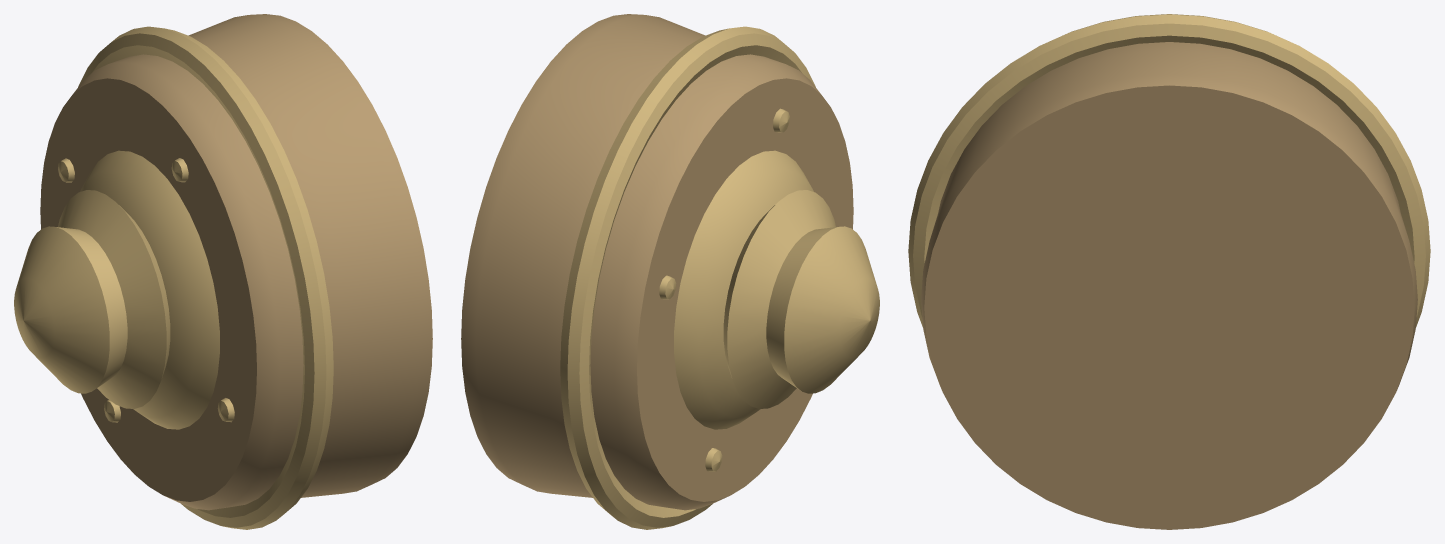
File: cryptex_cap_l.glb
The picture shows the model from 3 angles, left to right: view 1: azimuth 30°, elevation 25°; view 2: azimuth 150°, elevation 25°; view 3: azimuth 270°, elevation 25°; orthographic projection.
Parts seen in each view (by area): view 1: cryptex_cap_l; view 2: cryptex_cap_l; view 3: cryptex_cap_l.
Part boxes in pixels (left/top/right/bottom): cryptex_cap_l: left=14, top=14, right=432, bottom=529; cryptex_cap_l: left=461, top=14, right=879, bottom=529; cryptex_cap_l: left=908, top=14, right=1430, bottom=529.
Bounding box in the file's own units: 0.106 × 0.164 × 0.164.
